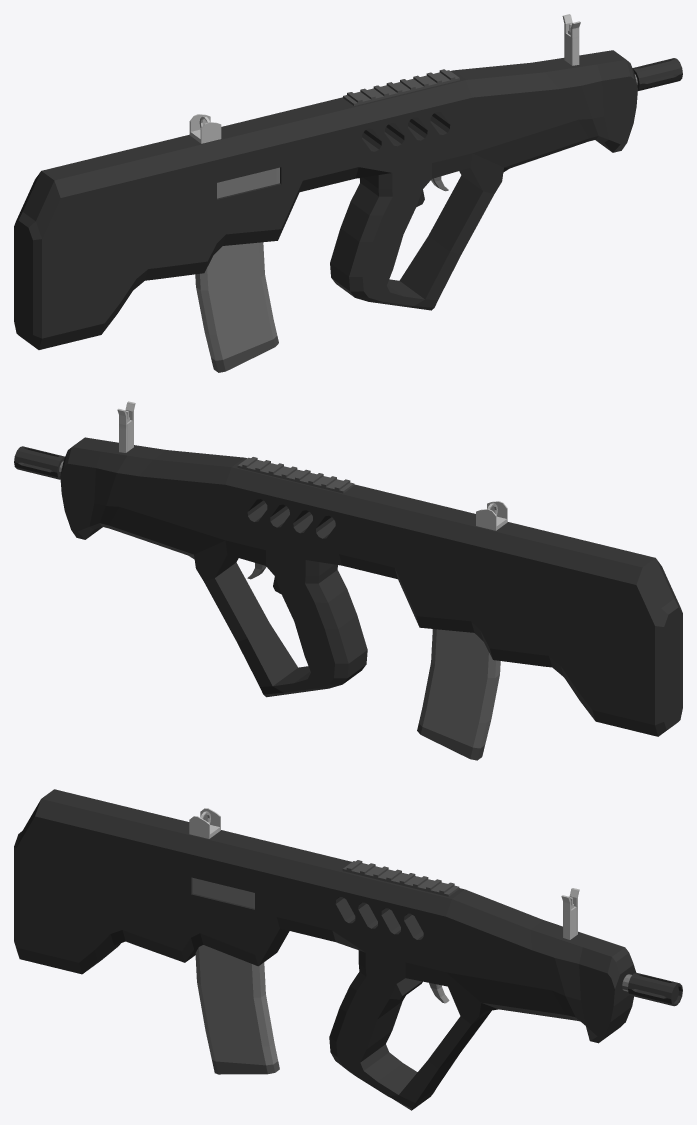
The model's file is TAR21.fbx.
3 views of the same model, one above another, from view 1: azimuth 30°, elevation 25°; view 2: azimuth 150°, elevation 25°; view 3: azimuth 330°, elevation 25° (orthographic).
Parts seen in each view (by area): view 1: Cube, Cube.001, Cube.003, Cylinder, Cube.006, Cube.004, Cube.005; view 2: Cube, Cube.001, Cube.003, Cylinder, Cube.004, Cube.005; view 3: Cube, Cube.001, Cube.003, Cylinder, Cube.006, Cube.004, Cube.005.
Boxes of the visible parts, box(x1,y1,x2,y2) form: Cube: box(14, 50, 637, 349); Cube.001: box(195, 242, 278, 372); Cube.003: box(343, 69, 459, 105); Cylinder: box(632, 58, 682, 90); Cube.006: box(217, 167, 279, 198); Cube.004: box(189, 114, 221, 143); Cube.005: box(562, 14, 580, 65); Cube: box(60, 437, 682, 736); Cube.001: box(417, 629, 500, 760); Cube.003: box(237, 457, 354, 493); Cylinder: box(14, 446, 64, 479); Cube.004: box(476, 501, 507, 530); Cube.005: box(117, 401, 135, 452); Cube: box(14, 789, 636, 1110); Cube.001: box(195, 945, 279, 1074); Cube.003: box(342, 860, 459, 896); Cylinder: box(622, 973, 682, 1006); Cube.006: box(192, 877, 254, 908); Cube.004: box(189, 808, 220, 838); Cube.005: box(561, 888, 579, 939).
Bounding box in the file's own units: 1123 × 436 × 76.2.
